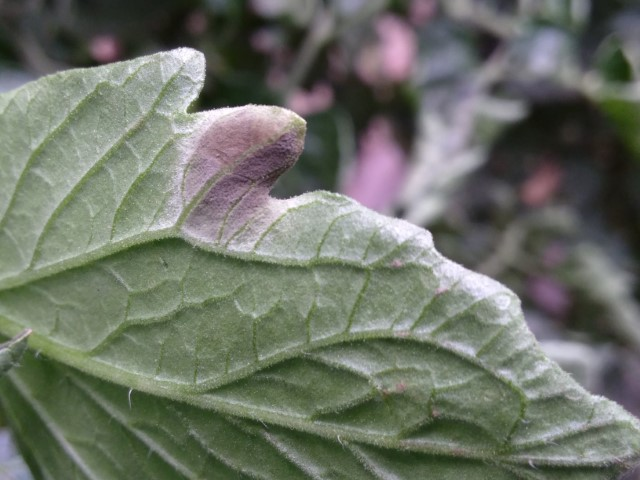negra: (181, 99, 309, 231)
